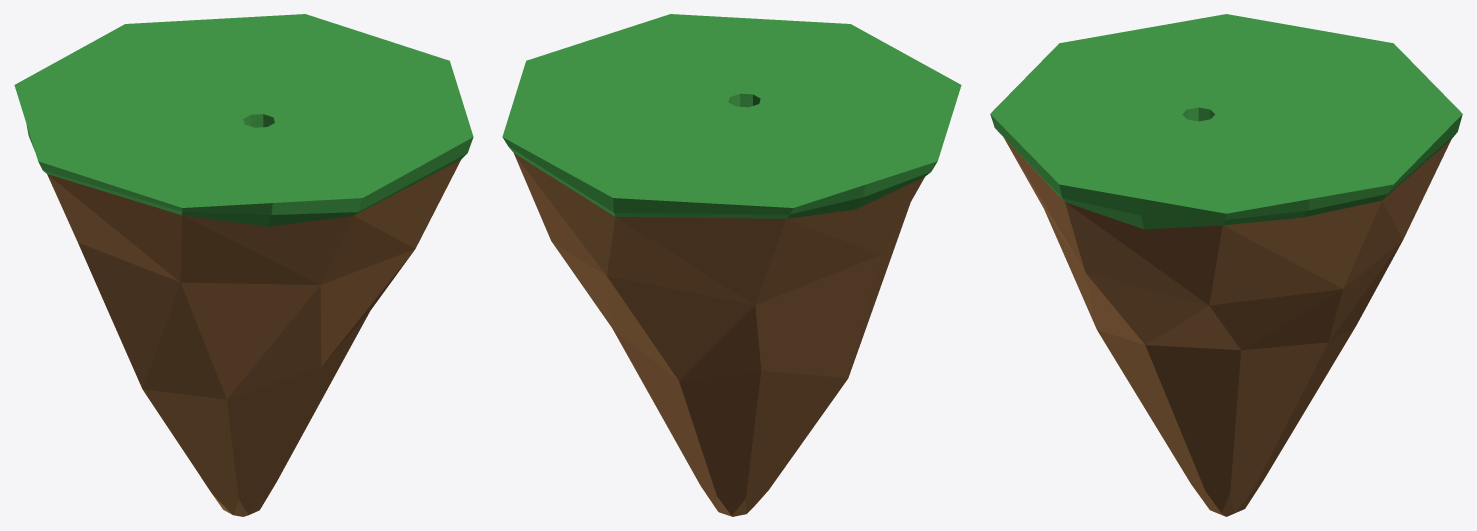
Rendered from FloatingIsland2.glb.
The picture shows the model from 3 angles, left to right: view 1: azimuth 30°, elevation 25°; view 2: azimuth 150°, elevation 25°; view 3: azimuth 270°, elevation 25°; orthographic projection.
Parts seen in each view (by area): view 1: IslandSmall; view 2: IslandSmall; view 3: IslandSmall.
Boxes of the visible parts, <box> form: IslandSmall: <box>14,14,473,516</box>; IslandSmall: <box>502,14,961,516</box>; IslandSmall: <box>990,14,1462,516</box>.
Size of the model in its own units: 2 by 1.88 by 2.
